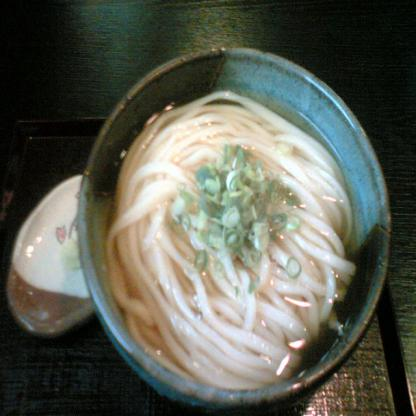Noodles: (105, 88, 356, 391)
